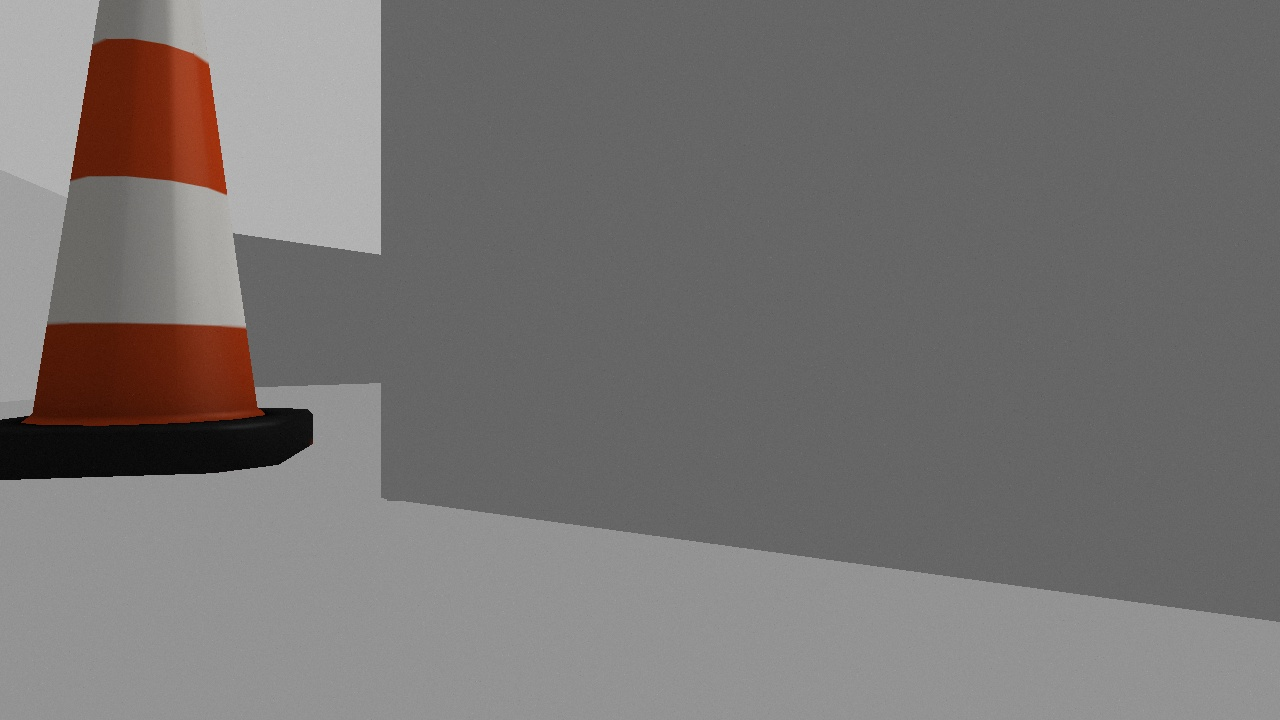barricade: (1, 1, 312, 477)
